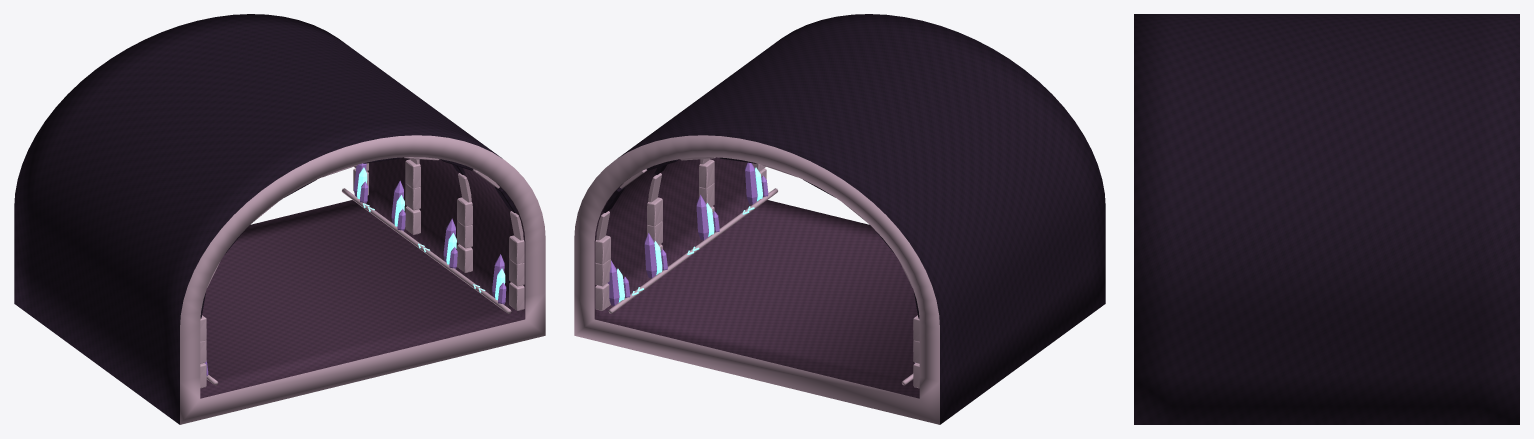
Rendered from straight_12m_lod1.glb.
The picture shows the model from 3 angles, left to right: view 1: azimuth 30°, elevation 25°; view 2: azimuth 150°, elevation 25°; view 3: azimuth 270°, elevation 25°; orthographic projection. The views are drawn at different scales.
Visible parts, largest first — view 1: TunnelGeometry.001; view 2: TunnelGeometry.001; view 3: TunnelGeometry.001.
Boxes of the visible parts, bbox=[...] form: TunnelGeometry.001: bbox=[14, 14, 545, 424]; TunnelGeometry.001: bbox=[574, 14, 1105, 424]; TunnelGeometry.001: bbox=[1134, 14, 1519, 424].
Bounding box in the file's own units: 15.3 × 9.52 × 12.
Materials: 5 (2 with a texture image).
